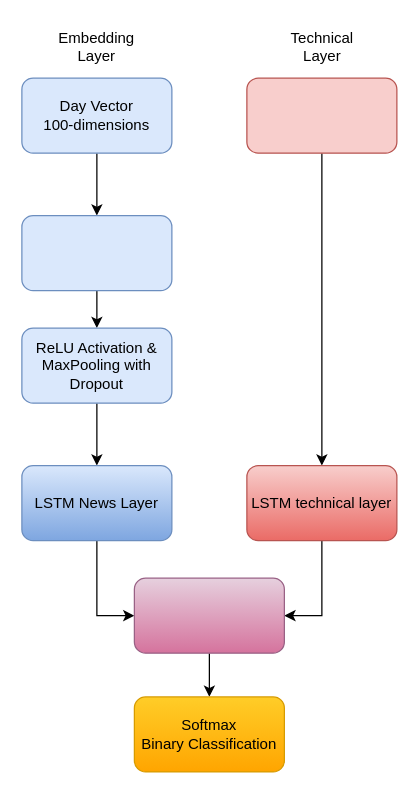
Image size: 419x794. Some labels were removed from this diagram. Here are the shapes that lost their labels. From the top down, the centre of each, then its label:
At (321,115): "Technical Indicators 7 dimensions".
At (96,252): "1D Convolutional CNN Layer".
At (208,615): "Concatenation Layer".
